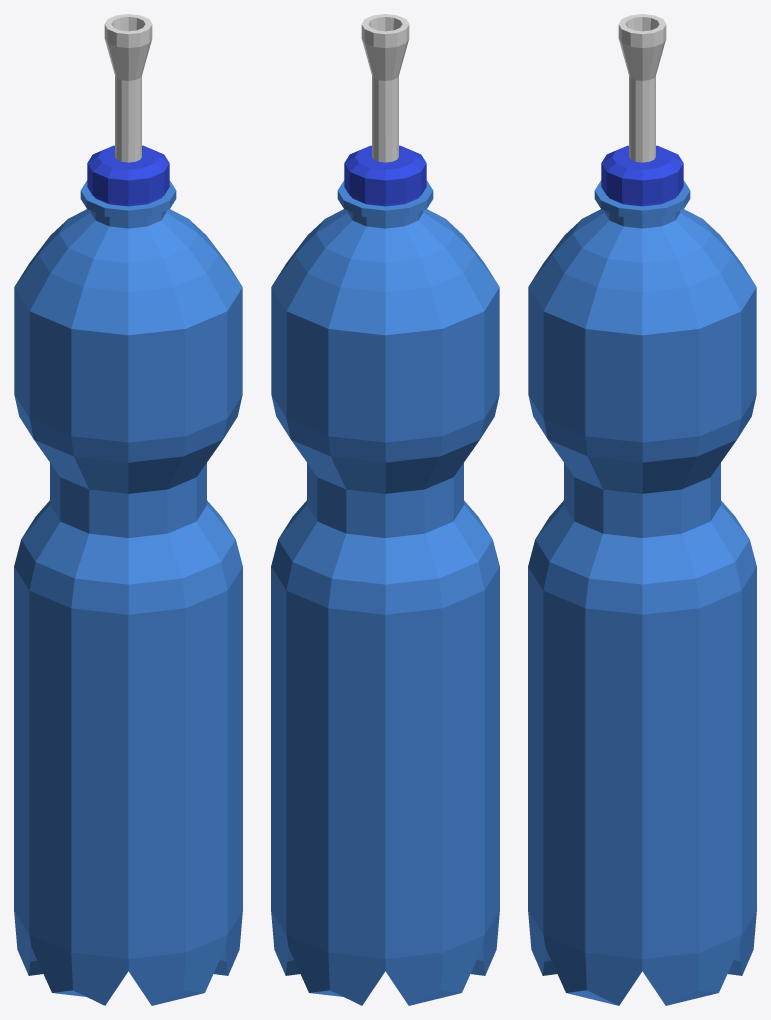
File: gbel.glb
The picture shows the model from 3 angles, left to right: view 1: azimuth 30°, elevation 25°; view 2: azimuth 150°, elevation 25°; view 3: azimuth 270°, elevation 25°; orthographic projection.
Visible parts, largest first — view 1: Cylinder; view 2: Cylinder; view 3: Cylinder.
Part boxes in pixels (x1,y1,x2,y2): Cylinder: [14, 14, 242, 1005]; Cylinder: [271, 14, 499, 1005]; Cylinder: [528, 14, 756, 1005].
Bounding box in the file's own units: 0.3502 × 1.6 × 0.3502.
